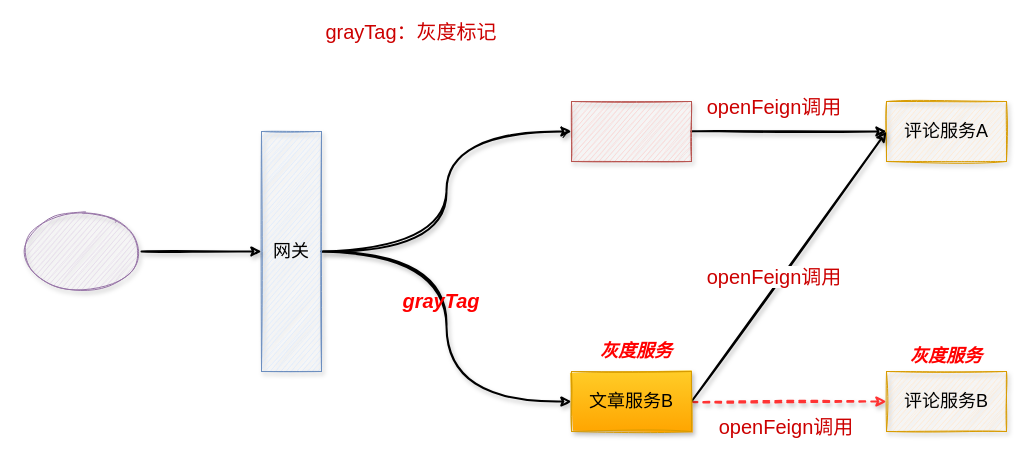
This 1030x465 diagram has some shape labels left out. Each missing label, with the centre of its shape:
"客户端" goes at pixel 82 252.
"文章服务A" goes at pixel 632 132.
